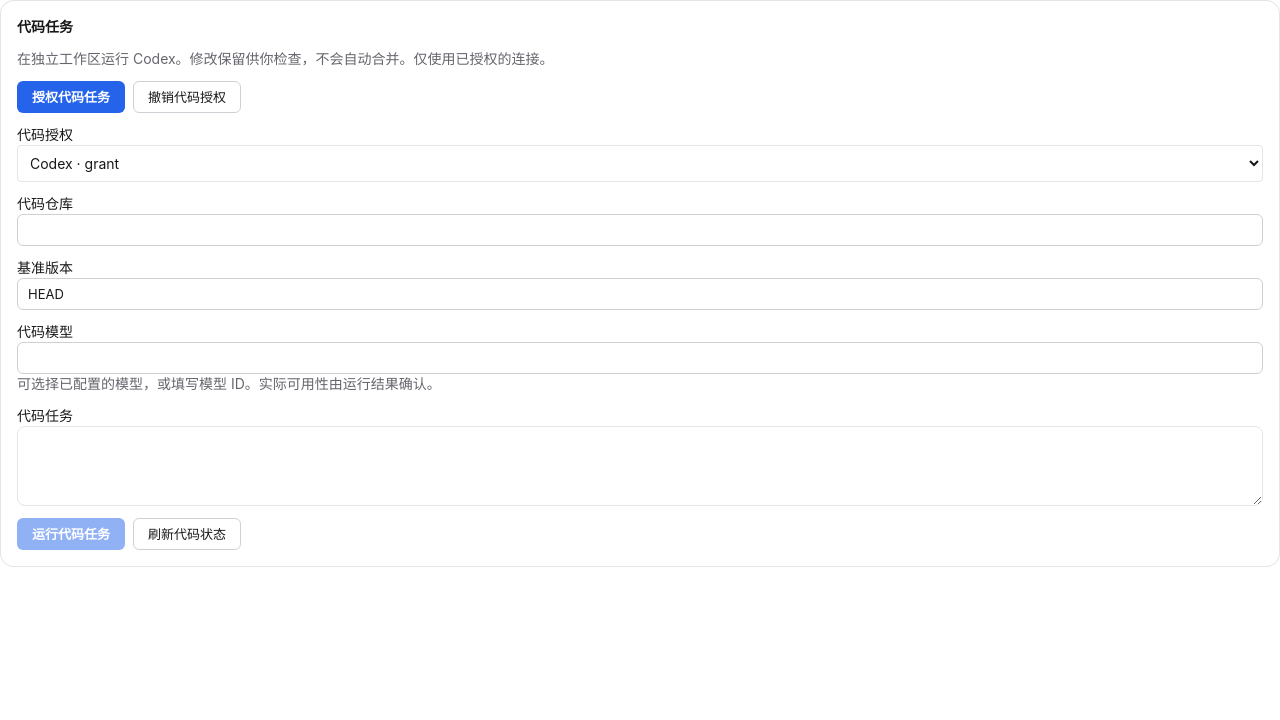
Test: shows actionable rejection for agents.code_route_unsupported without claiming a task exists
In the field labelled "代码仓库": point(640, 230) [17,214,1263,246], type "/tmp/example"
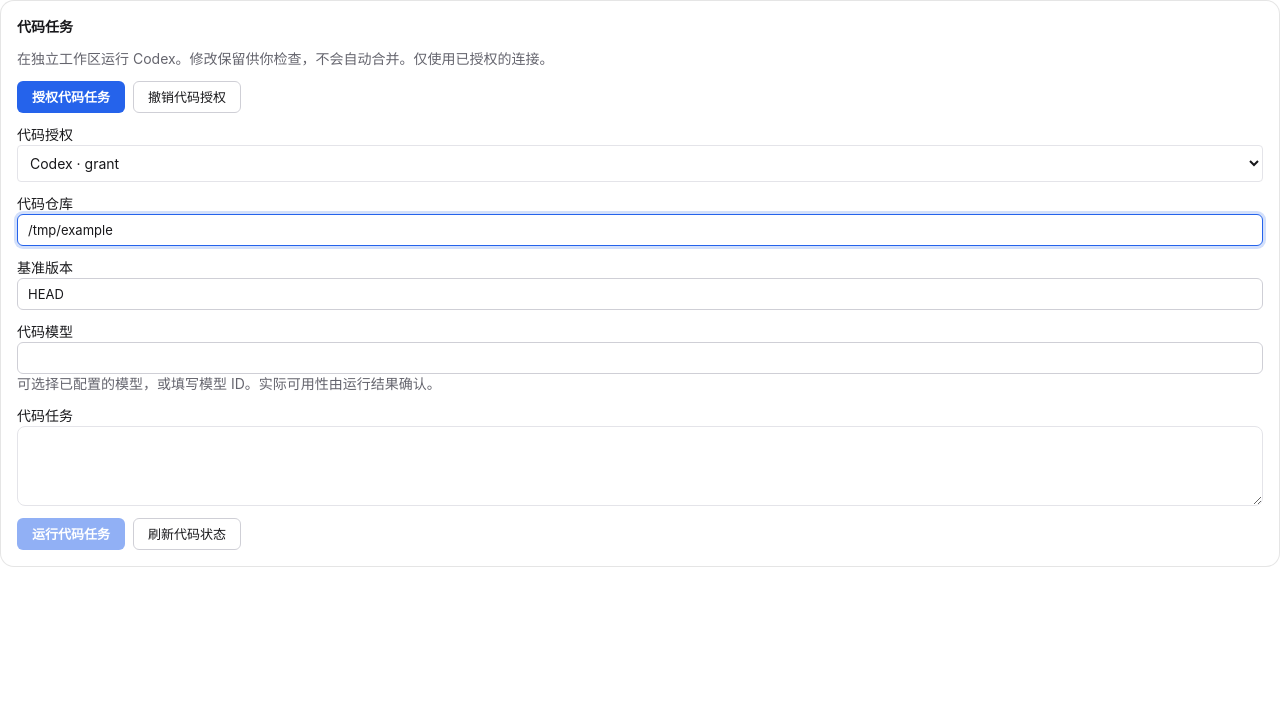
In the text box labelled "代码任务": point(640, 466) [17,426,1263,506], type "Fix"
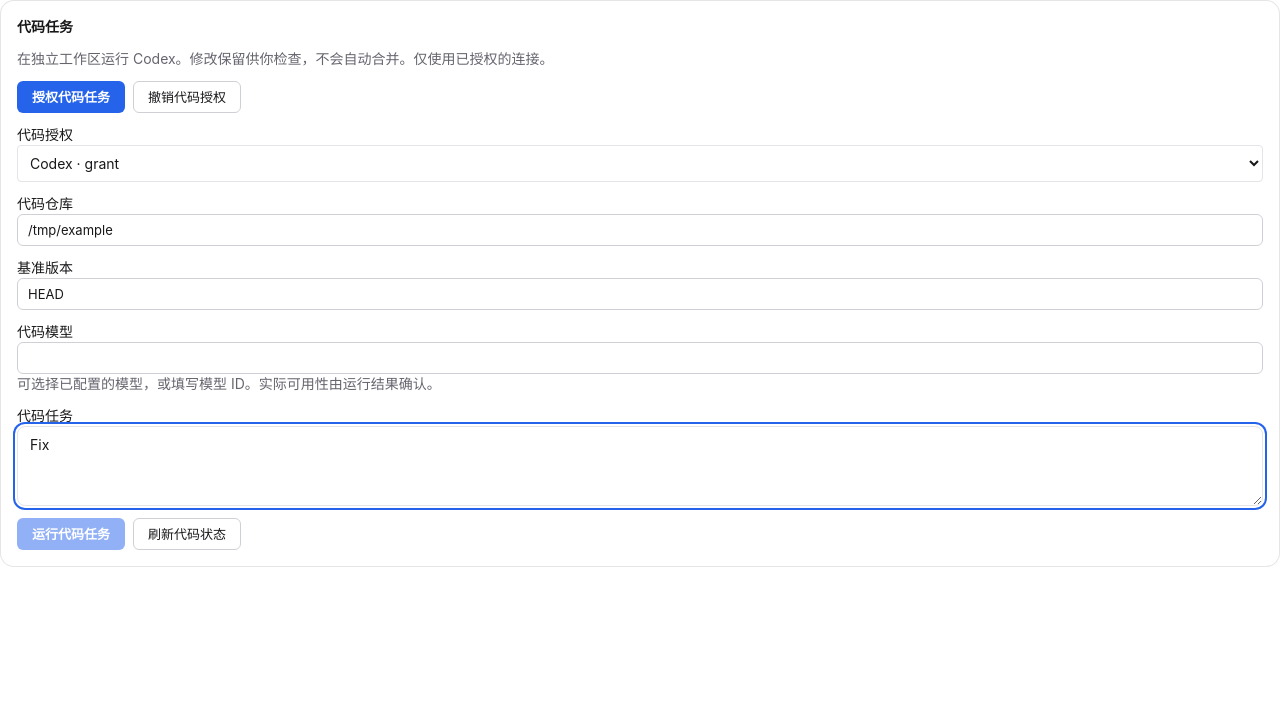
In the field labelled "代码模型": point(640, 358) [17,342,1263,374], type "test-model"
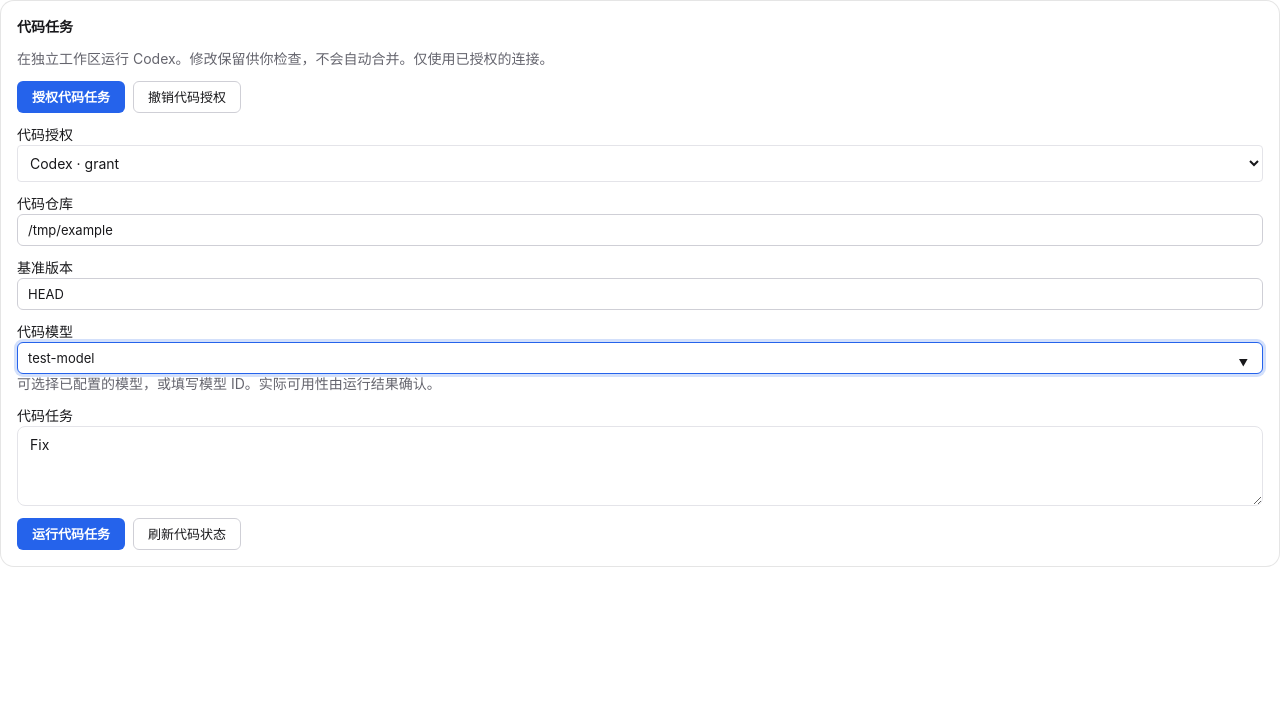
Click the button "运行代码任务": point(71, 534) [17,518,125,550]
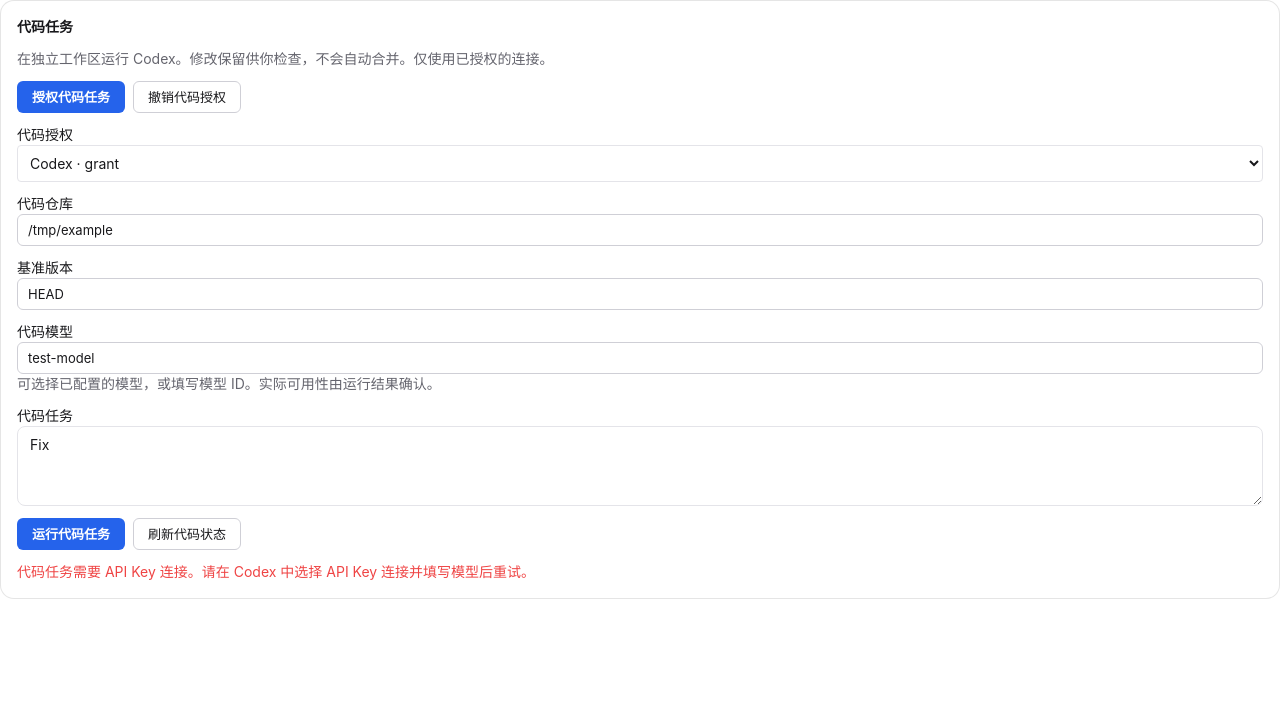
Check: the message does not show "读取已有任务", box [17,563,535,580]
Check: the message shows "API Key", box [17,563,535,580]
